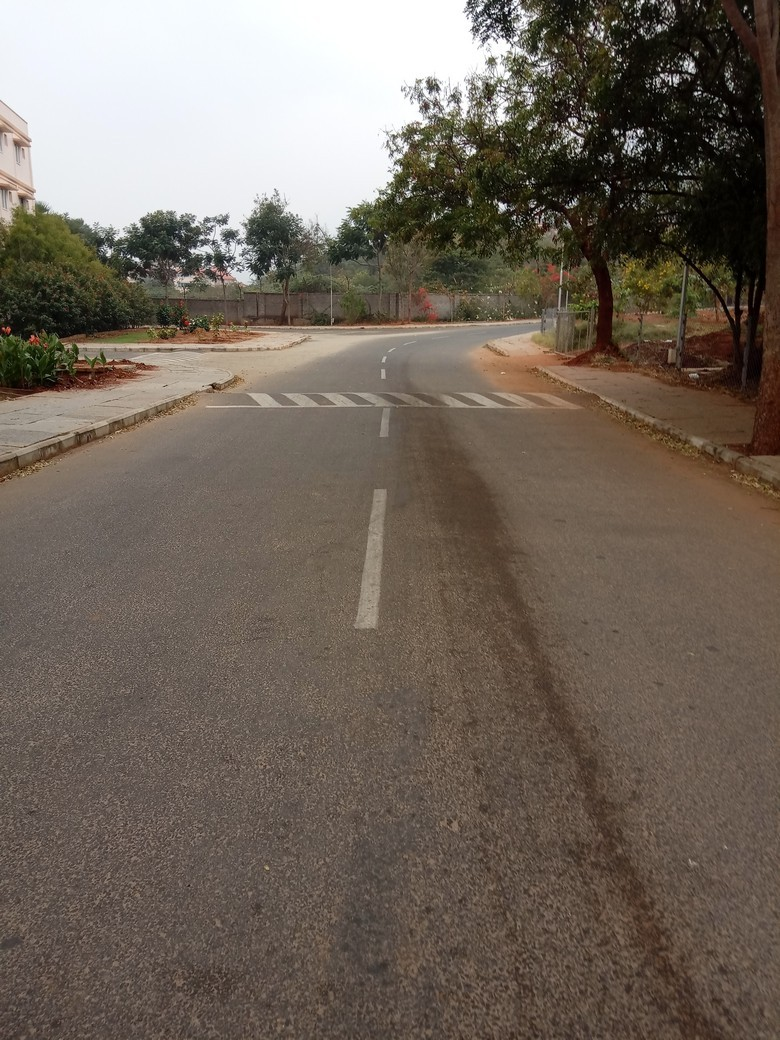bump: (191, 388, 595, 407)
